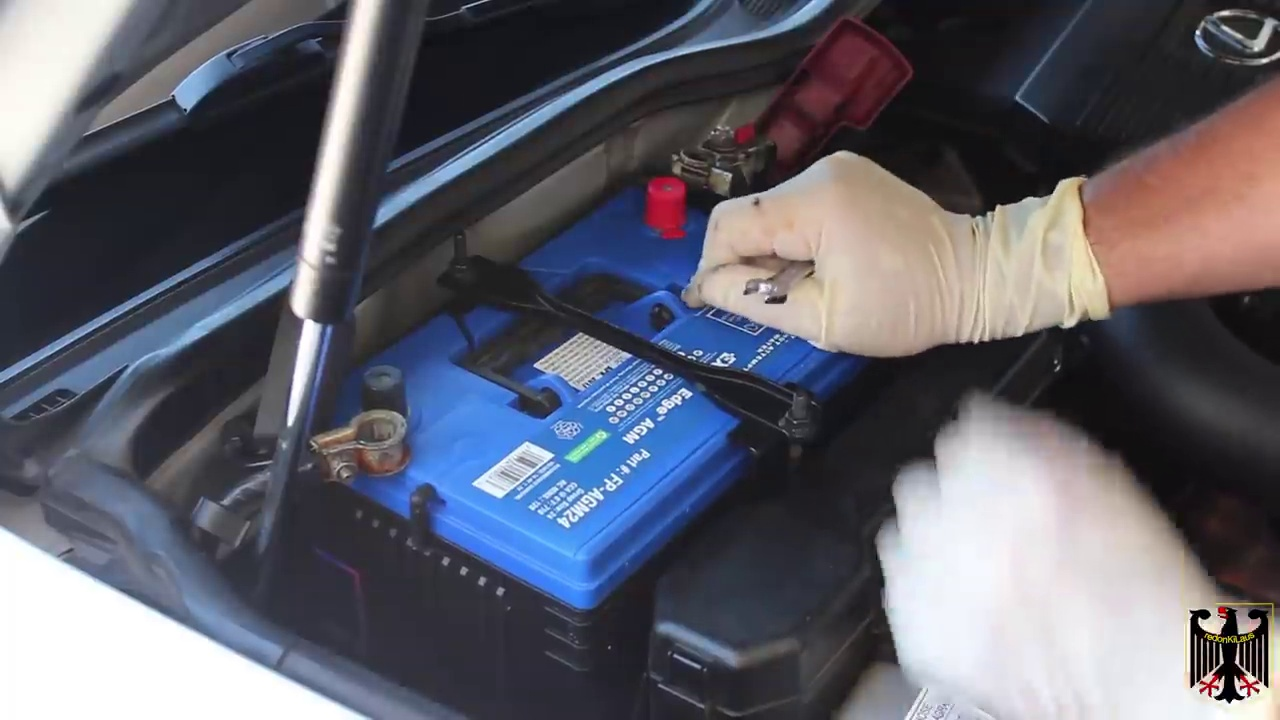battery: (339, 173, 880, 566)
pos_disconnected: (616, 47, 878, 238)
pos_touched: (620, 51, 877, 346)
